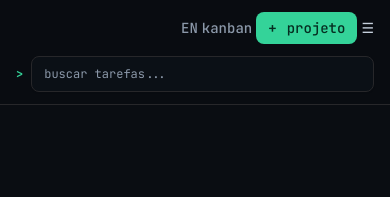
Test: Topbar menu mobile (☰) › ☰ não contém lista nem kanban (são o toggle na barra)
What coordinates should you click on to do the following:
click the button named "menu"
I would click on:
 (368, 28)
Its box is x1=361 y1=18 x2=374 y2=38.
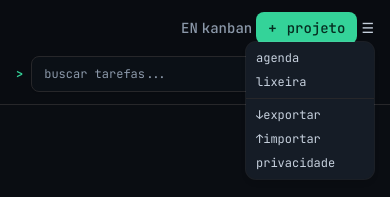
Now the menu item "agenda" is shown, box x1=256 y1=50 x2=299 y2=66
